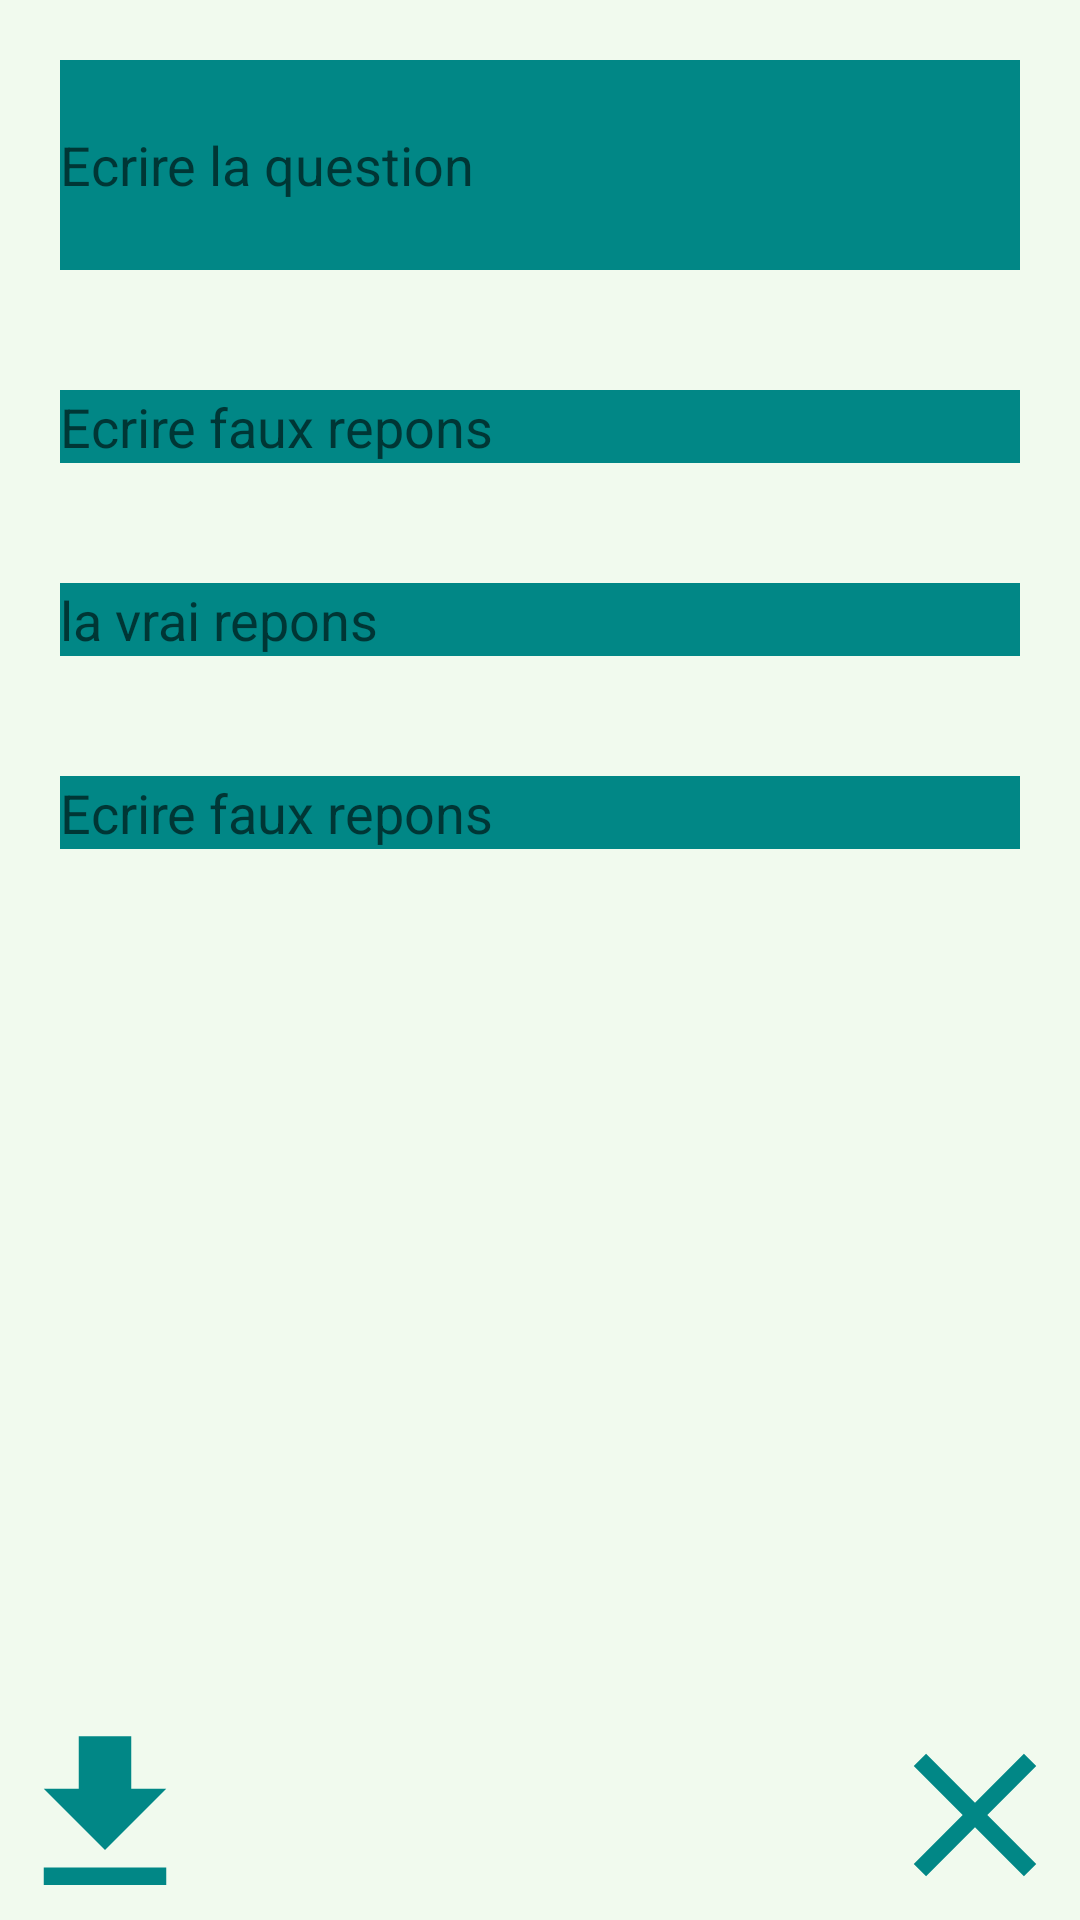

Where icons sit on this 1080 x 1920 app screen, as (x1, y1, x2, y2):
close: (914, 1754, 1036, 1876)
download: (43, 1736, 167, 1885)
